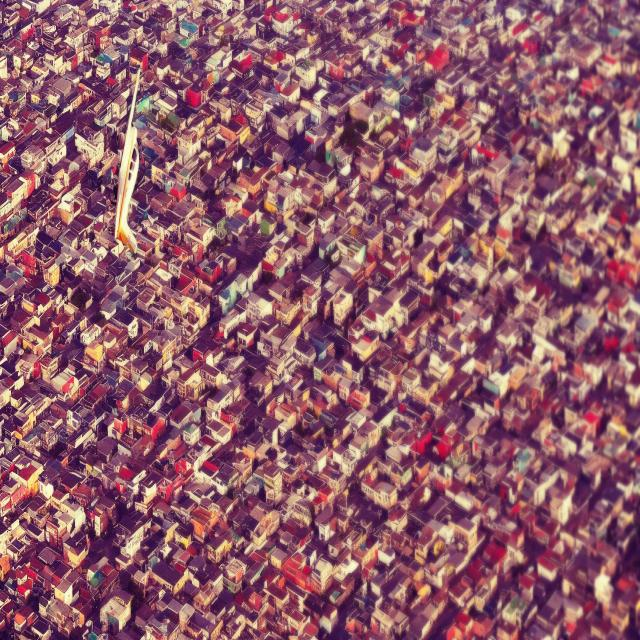airplane: (113, 65, 143, 256)
